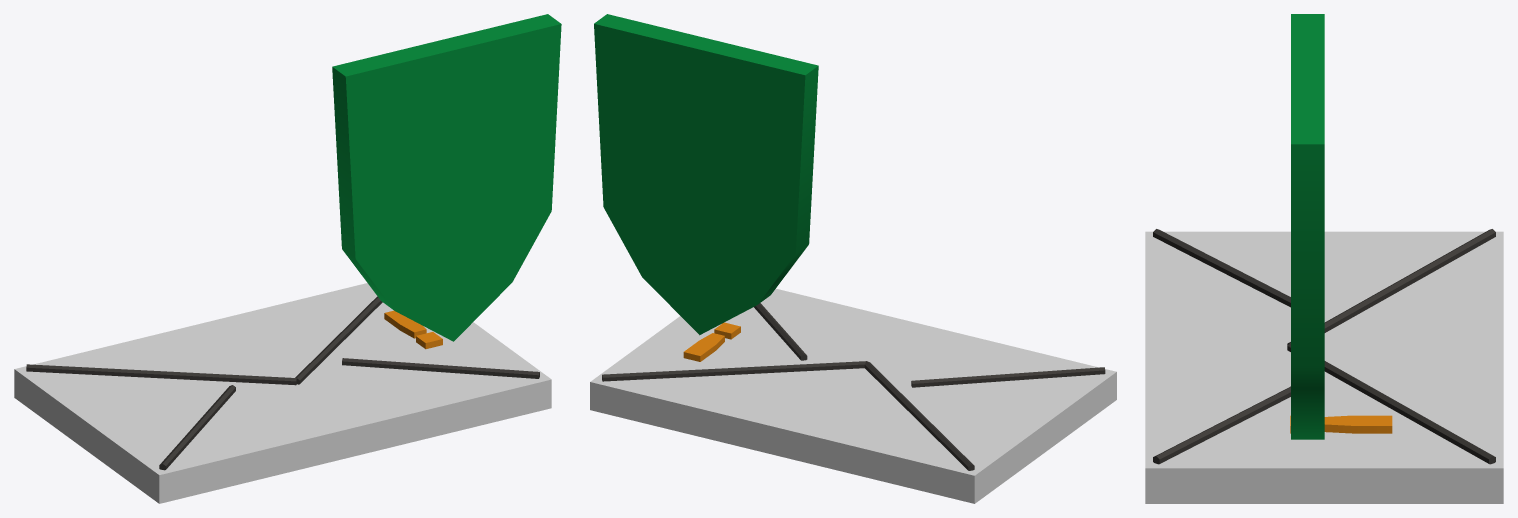
The model's file is P6_email_security.glb.
3 renders of one model, left to right at view 1: azimuth 30°, elevation 25°; view 2: azimuth 150°, elevation 25°; view 3: azimuth 270°, elevation 25°, orthographic. The views are drawn at different scales.
Parts seen in each view (by area): view 1: instance_white, instance_green, instance_ink, instance_amber; view 2: instance_white, instance_green, instance_ink, instance_amber; view 3: instance_white, instance_green, instance_ink, instance_amber.
Part boxes in pixels (box(x1,y1,x2,y2)): instance_white: box(14, 283, 551, 503); instance_green: box(332, 14, 561, 341); instance_ink: box(26, 296, 539, 470); instance_amber: box(384, 310, 442, 349); instance_white: box(590, 288, 1116, 503); instance_green: box(594, 14, 818, 335); instance_ink: box(602, 303, 1105, 470); instance_amber: box(683, 322, 740, 361); instance_white: box(1145, 231, 1503, 503); instance_green: box(1291, 14, 1324, 439); instance_ink: box(1153, 229, 1495, 464); instance_amber: box(1290, 415, 1392, 433).
Size of the model in its own units: 1.17 by 0.79 by 0.64.
